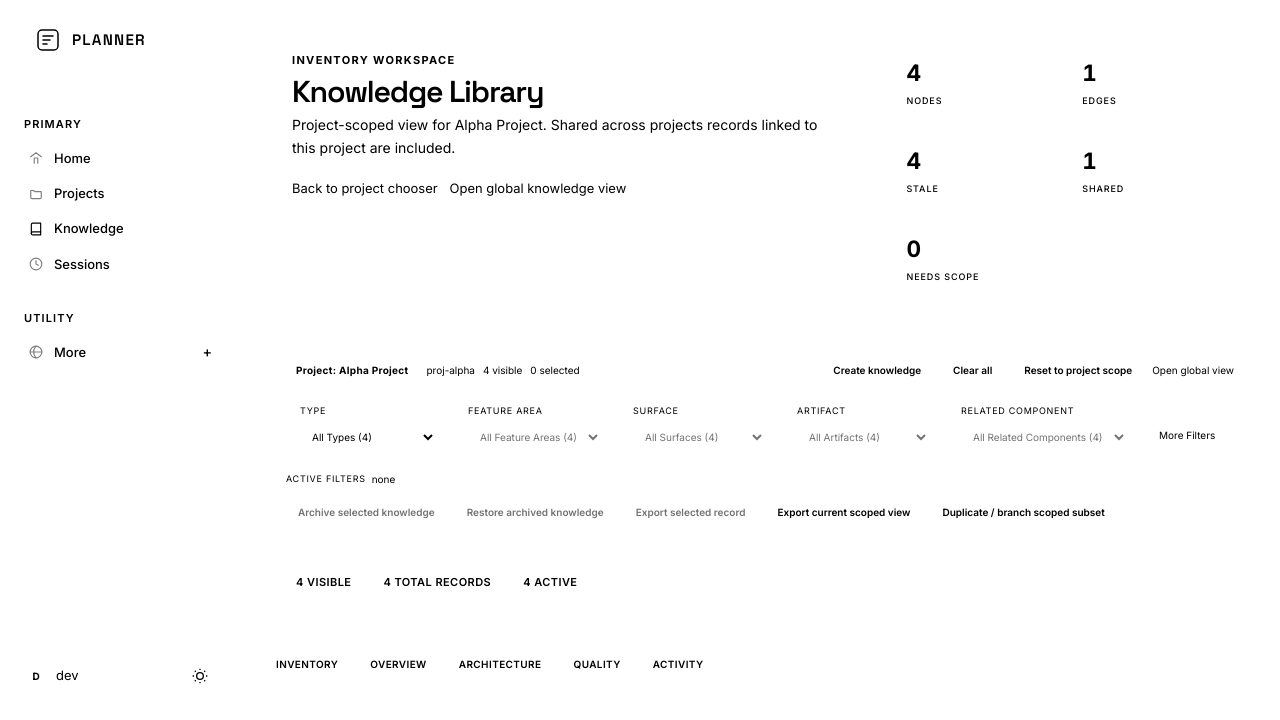
Test: KnowledgeLibraryPage phase 2 routing › shows durable export history entries sourced from project events
(page scrolled)
Check: the text "Project: Alpha Project" is shown, box [296,364,408,376]
Click the button "Activity". click: (678, 664)
box: [641,650,716,679]
(page scrolled)
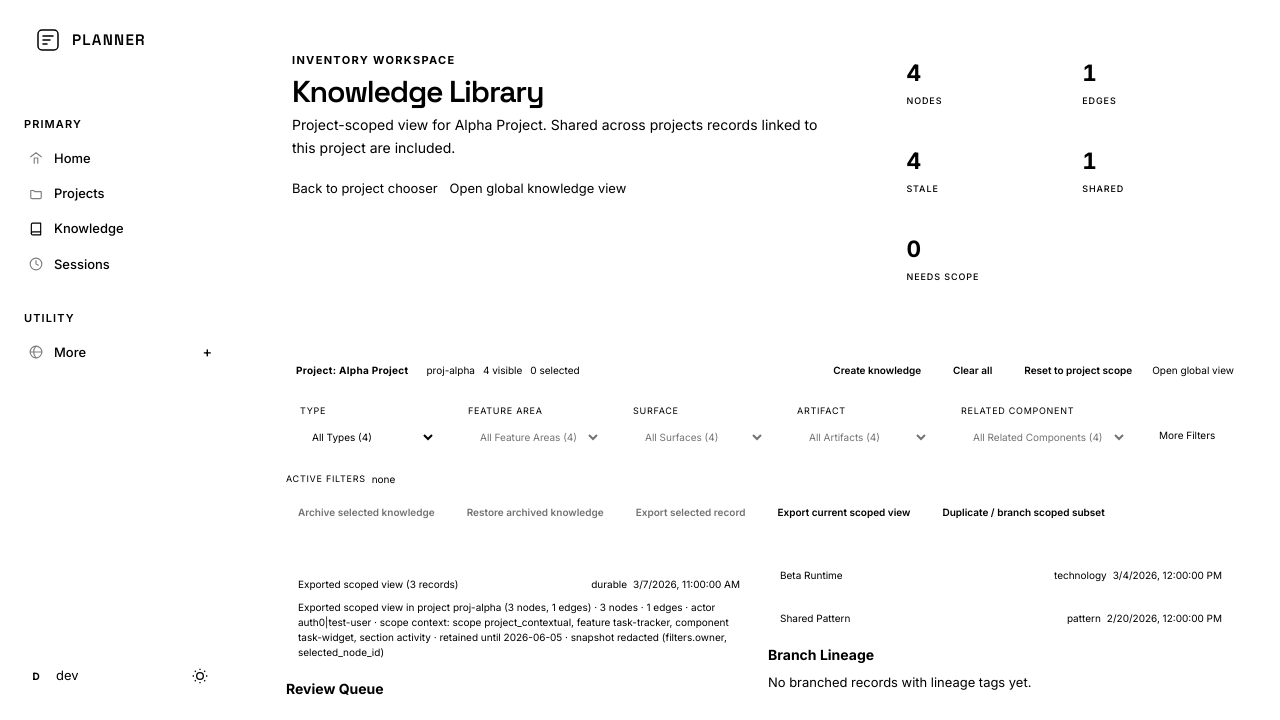
Check: the text "Exported scoped view (3 records)" is shown, box [298,578,458,590]
Check: the text "snapshot redacted (filters.owner, selected_node_id)" is shown, box [298,601,729,658]
